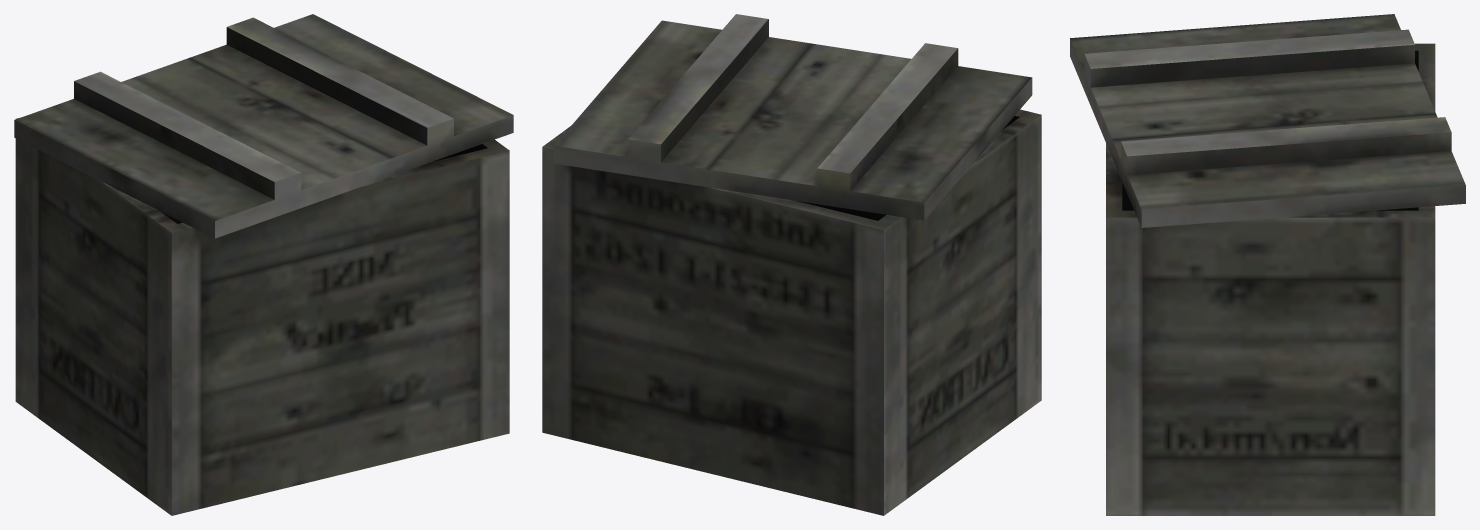
File: ammo_box.fbx
3 renders of one model, left to right at view 1: azimuth 30°, elevation 25°; view 2: azimuth 150°, elevation 25°; view 3: azimuth 270°, elevation 25°, orthographic. The views are drawn at different scales.
Parts seen in each view (by area): view 1: mesh_0; view 2: mesh_0; view 3: mesh_0.
Boxes of the visible parts, x1,y1,x2,y2 form: mesh_0: [14, 14, 513, 515]; mesh_0: [542, 14, 1041, 515]; mesh_0: [1070, 14, 1465, 515].
Bounding box in the file's own units: 56.17 × 45.05 × 48.09.
1 material, 1 textured.
